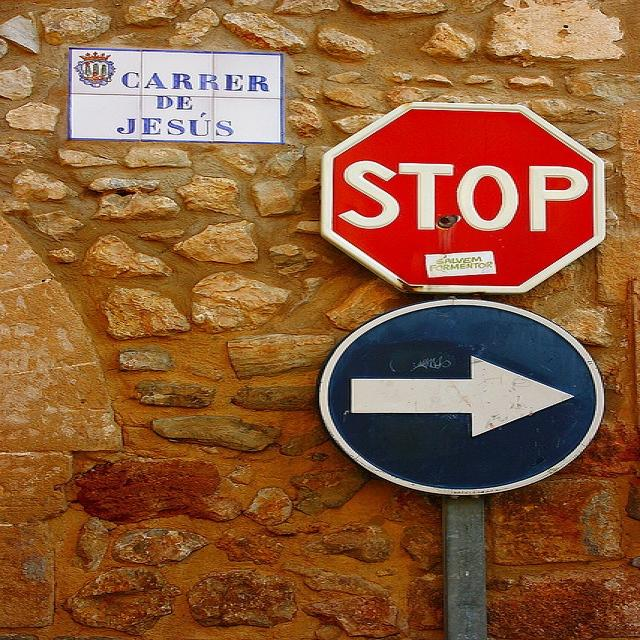pole: (422, 492, 507, 639)
